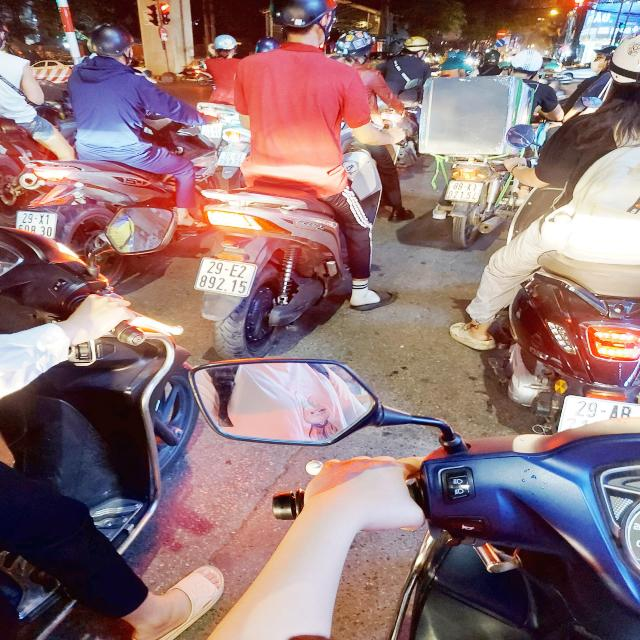license_plate: (191, 255, 265, 301), (440, 178, 489, 207)
